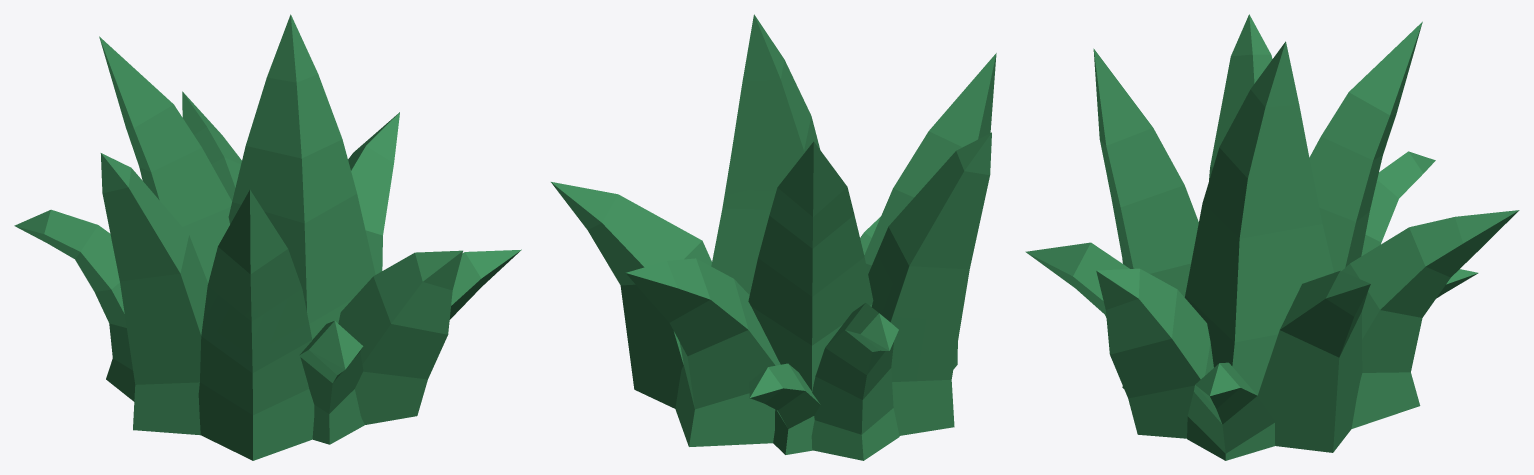
File: GrassCompact.fbx
3 renders of one model, left to right at view 1: azimuth 30°, elevation 25°; view 2: azimuth 150°, elevation 25°; view 3: azimuth 270°, elevation 25°, orthographic. The views are drawn at different scales.
Visible parts, largest first — view 1: GrassCompact; view 2: GrassCompact; view 3: GrassCompact.
Part boxes in pixels (box(x1,y1,x2,y2)): GrassCompact: box(14, 14, 521, 460); GrassCompact: box(551, 14, 996, 460); GrassCompact: box(1025, 14, 1519, 460).
Bounding box in the file's own units: 20.94 × 18.02 × 22.
